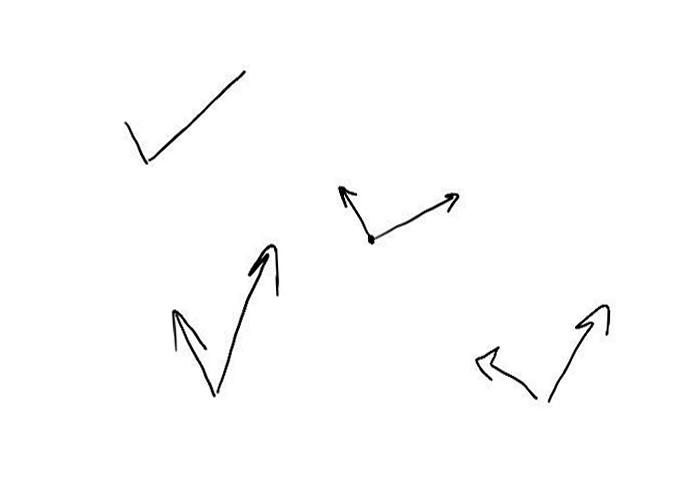arrow: (220, 245, 278, 391), (549, 303, 612, 398), (170, 308, 214, 399), (373, 189, 457, 233), (474, 343, 537, 397)
arrownohead: (149, 72, 245, 158), (335, 184, 368, 233), (122, 122, 146, 164)
